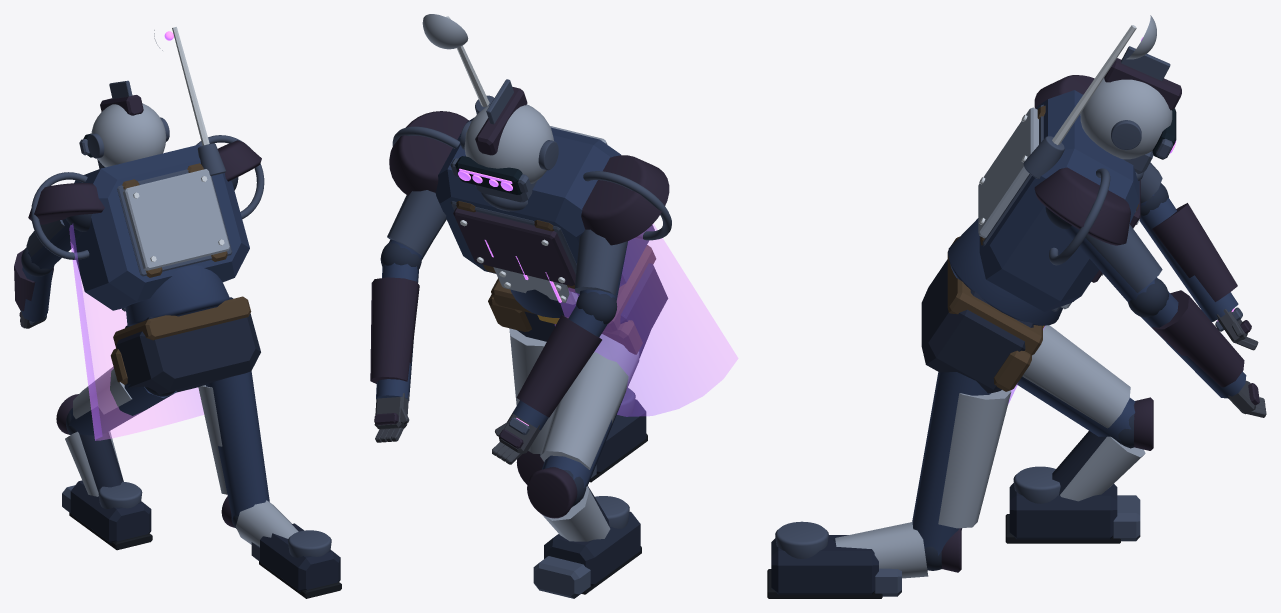
Rendered from hero_specter_revive.glb.
The picture shows the model from 3 angles, left to right: view 1: azimuth 30°, elevation 25°; view 2: azimuth 150°, elevation 25°; view 3: azimuth 270°, elevation 25°; orthographic projection. The views are drawn at different scales.
Parts seen in each view (by area): view 1: hero_specter_revive_chest, hero_specter_revive_back_plate_face, hero_specter_revive_pelvis, hero_specter_revive_cloak, hero_specter_revive_thigh_r, hero_specter_revive_abdomen, hero_specter_revive_helmet, hero_specter_revive_boot_r, hero_specter_revive_boot_l, hero_specter_revive_belt, hero_specter_revive_pauldron-1, hero_specter_revive_thigh_l (+20 smaller); view 2: hero_specter_revive_cloak, hero_specter_revive_chest, hero_specter_revive_thigh_plate_l, hero_specter_revive_chest_plate_face, hero_specter_revive_pauldron-1, hero_specter_revive_bracer_r, hero_specter_revive_bracer_l, hero_specter_revive_pauldron1, hero_specter_revive_helmet, hero_specter_revive_boot_l, hero_specter_revive_pelvis, hero_specter_revive_bicep_plate_l (+29 smaller); view 3: hero_specter_revive_chest, hero_specter_revive_pelvis, hero_specter_revive_thigh_plate_r, hero_specter_revive_thigh_plate_l, hero_specter_revive_thigh_r, hero_specter_revive_boot_r, hero_specter_revive_helmet, hero_specter_revive_boot_l, hero_specter_revive_pauldron1, hero_specter_revive_bracer_r, hero_specter_revive_bracer_l, hero_specter_revive_back_plate_face (+27 smaller).
Boxes of the visible parts, x1=… form: hero_specter_revive_chest: x1=73, y1=144, x2=249, y2=310; hero_specter_revive_back_plate_face: x1=123, y1=169, x2=229, y2=270; hero_specter_revive_pelvis: x1=116, y1=297, x2=260, y2=394; hero_specter_revive_cloak: x1=69, y1=224, x2=203, y2=440; hero_specter_revive_thigh_r: x1=206, y1=371, x2=269, y2=519; hero_specter_revive_abdomen: x1=125, y1=265, x2=229, y2=326; hero_specter_revive_helmet: x1=91, y1=103, x2=166, y2=167; hero_specter_revive_boot_r: x1=260, y1=523, x2=340, y2=591; hero_specter_revive_boot_l: x1=70, y1=480, x2=151, y2=543; hero_specter_revive_belt: x1=113, y1=296, x2=251, y2=348; hero_specter_revive_pauldron-1: x1=28, y1=183, x2=104, y2=224; hero_specter_revive_thigh_l: x1=68, y1=384, x2=176, y2=436; hero_specter_revive_cloak: x1=555, y1=224, x2=738, y2=416; hero_specter_revive_chest: x1=435, y1=117, x2=654, y2=293; hero_specter_revive_thigh_plate_l: x1=540, y1=334, x2=639, y2=469; hero_specter_revive_chest_plate_face: x1=453, y1=207, x2=575, y2=285; hero_specter_revive_pauldron-1: x1=581, y1=155, x2=669, y2=245; hero_specter_revive_bracer_r: x1=370, y1=277, x2=419, y2=383; hero_specter_revive_bracer_l: x1=516, y1=315, x2=601, y2=417; hero_specter_revive_pauldron1: x1=389, y1=111, x2=468, y2=195; hero_specter_revive_helmet: x1=464, y1=104, x2=553, y2=183; hero_specter_revive_boot_l: x1=544, y1=511, x2=640, y2=586; hero_specter_revive_pelvis: x1=517, y1=263, x2=667, y2=349; hero_specter_revive_bicep_plate_l: x1=574, y1=229, x2=627, y2=295; hero_specter_revive_chest: x1=979, y1=90, x2=1139, y2=311; hero_specter_revive_pelvis: x1=921, y1=259, x2=1033, y2=393; hero_specter_revive_thigh_plate_r: x1=938, y1=390, x2=1011, y2=528; hero_specter_revive_thigh_plate_l: x1=1022, y1=325, x2=1130, y2=428; hero_specter_revive_thigh_r: x1=912, y1=372, x2=990, y2=555; hero_specter_revive_boot_r: x1=771, y1=535, x2=878, y2=594; hero_specter_revive_helmet: x1=1080, y1=78, x2=1172, y2=159; hero_specter_revive_boot_l: x1=1009, y1=483, x2=1117, y2=539; hero_specter_revive_pauldron1: x1=1034, y1=167, x2=1130, y2=245; hero_specter_revive_bracer_r: x1=1152, y1=290, x2=1244, y2=387; hero_specter_revive_bracer_l: x1=1152, y1=203, x2=1237, y2=301; hero_specter_revive_back_plate_face: x1=978, y1=107, x2=1038, y2=238.
Bounding box in the file's own units: 0.8436 × 1.65 × 1.3.
